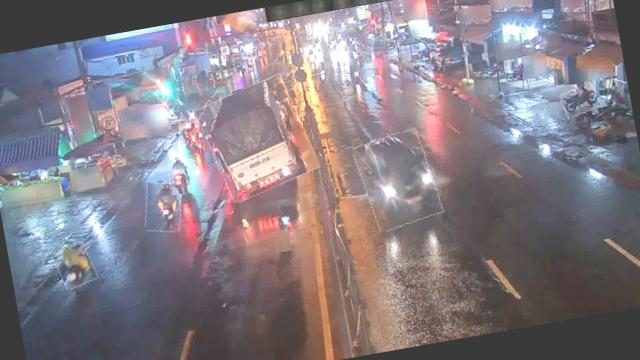Bike: (140, 178, 187, 235), (53, 242, 97, 290), (560, 82, 600, 116), (166, 156, 197, 195), (186, 121, 204, 155), (178, 119, 194, 146)
Car: (354, 128, 442, 231)
Truck: (197, 74, 319, 202)
